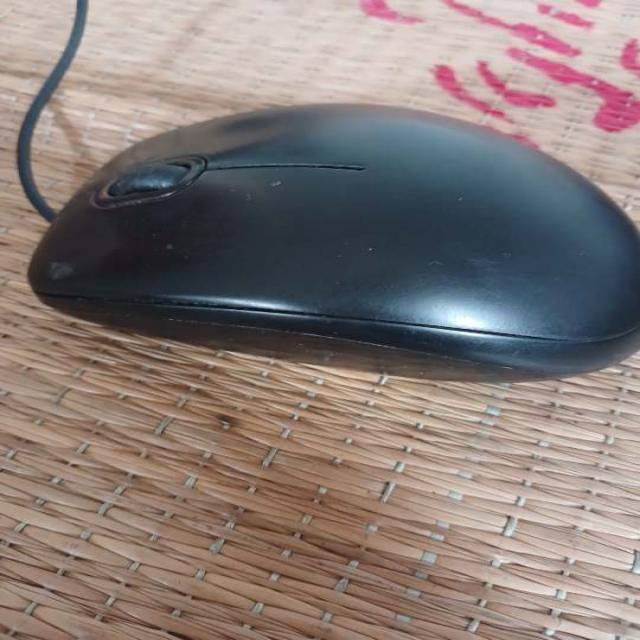mouse: (23, 96, 640, 389)
